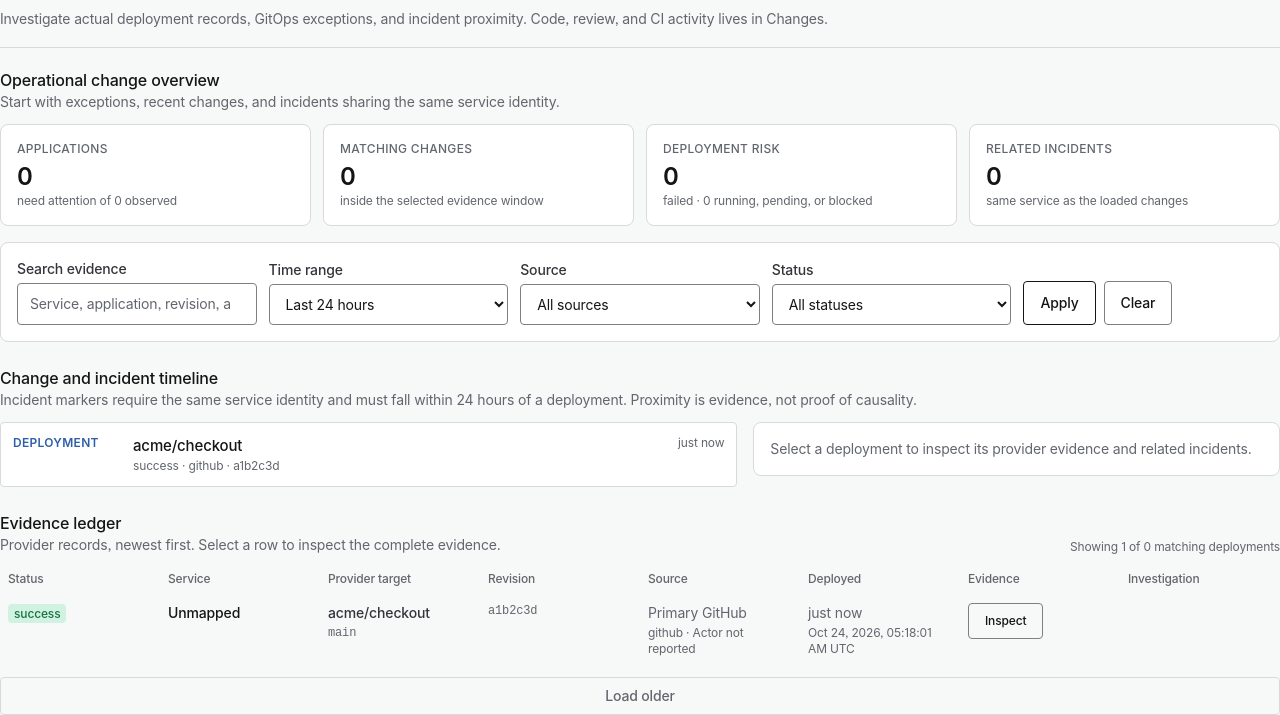
it: DeploymentsPanel older-history Load older › pages older deploys via nextCursor, appending rows; the button disappears on the last page
This screenshot has width=1280, height=715.
(page scrolled)
Check: the text "acme/checkout" below "Change and incident timeline" is shown, box [133,436,242,455]
Check: the text "acme/orders" is not shown
Click the button "Load older".
click(640, 696)  # box [0,676,1279,714]
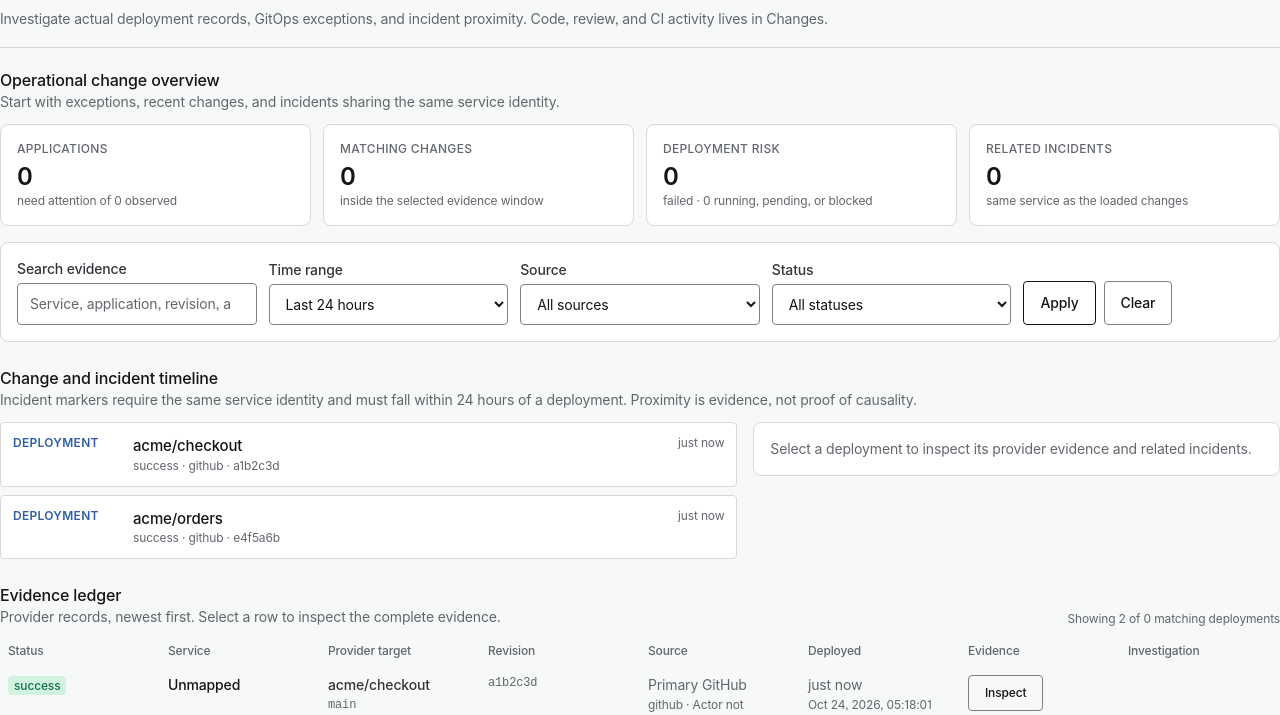
Check: the text "acme/checkout" below "Change and incident timeline" is shown, box [133,436,242,455]
Check: the text "acme/orders" is shown, box [133,508,223,528]
Check: the button "Load older" is gone
